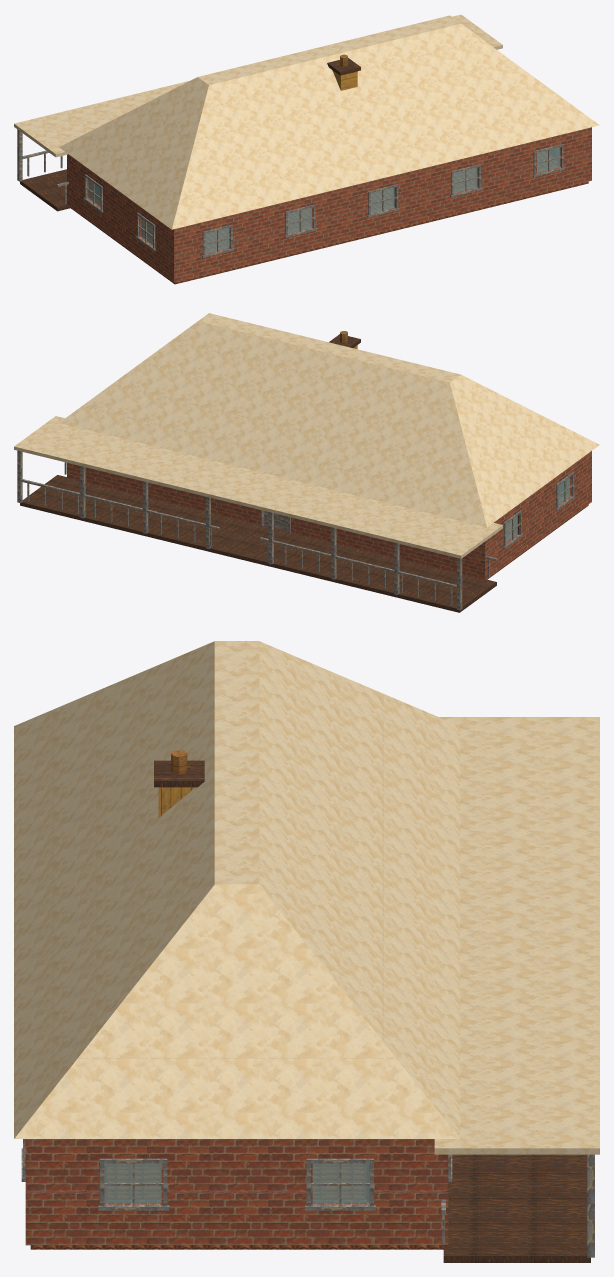
File: branchline-depot.gltf
3 views of the same model, one above another, from view 1: azimuth 30°, elevation 25°; view 2: azimuth 150°, elevation 25°; view 3: azimuth 270°, elevation 25° (orthographic). The views are drawn at different scales.
Visible parts, largest first — view 1: roof-L0-green-metal, exterior-L0-yellow-siding, porch-L0-green-metal, trim-L0-dark-wood, floor-L0-floor, glazing-L0-glass, porch-L0-stone, porch-L0-dark-wood; view 2: roof-L0-green-metal, porch-L0-green-metal, porch-L0-stone, exterior-L0-yellow-siding, porch-L0-dark-wood, trim-L0-dark-wood, glazing-L0-glass; view 3: roof-L0-green-metal, porch-L0-green-metal, exterior-L0-yellow-siding, porch-L0-stone, floor-L0-floor, glazing-L0-glass, trim-L0-dark-wood, details-L0-stone, porch-L0-dark-wood.
Part boxes in pixels (x1=…): roof-L0-green-metal: x1=59, y1=15, x2=599, y2=229; exterior-L0-yellow-siding: x1=67, y1=127, x2=591, y2=282; porch-L0-green-metal: x1=14, y1=14, x2=502, y2=157; trim-L0-dark-wood: x1=83, y1=144, x2=564, y2=257; floor-L0-floor: x1=70, y1=151, x2=588, y2=284; glazing-L0-glass: x1=88, y1=147, x2=560, y2=253; porch-L0-stone: x1=20, y1=169, x2=70, y2=211; porch-L0-dark-wood: x1=17, y1=129, x2=68, y2=203; roof-L0-green-metal: x1=59, y1=313, x2=599, y2=527; porch-L0-green-metal: x1=14, y1=416, x2=502, y2=558; porch-L0-stone: x1=20, y1=475, x2=496, y2=612; exterior-L0-yellow-siding: x1=67, y1=451, x2=591, y2=580; porch-L0-dark-wood: x1=17, y1=450, x2=497, y2=610; trim-L0-dark-wood: x1=260, y1=472, x2=575, y2=548; glazing-L0-glass: x1=506, y1=477, x2=569, y2=542; roof-L0-green-metal: x1=14, y1=641, x2=459, y2=1138; porch-L0-green-metal: x1=434, y1=717, x2=599, y2=1154; exterior-L0-yellow-siding: x1=25, y1=1139, x2=448, y2=1245; porch-L0-stone: x1=443, y1=1154, x2=590, y2=1262; floor-L0-floor: x1=30, y1=1164, x2=443, y2=1249; glazing-L0-glass: x1=104, y1=1163, x2=369, y2=1203; trim-L0-dark-wood: x1=21, y1=1139, x2=452, y2=1210; details-L0-stone: x1=154, y1=760, x2=204, y2=787; porch-L0-dark-wood: x1=441, y1=1154, x2=594, y2=1257.
Size of the model in its own units: 17.3 by 5.56 by 9.93.
Materials: 10 (9 with a texture image).
